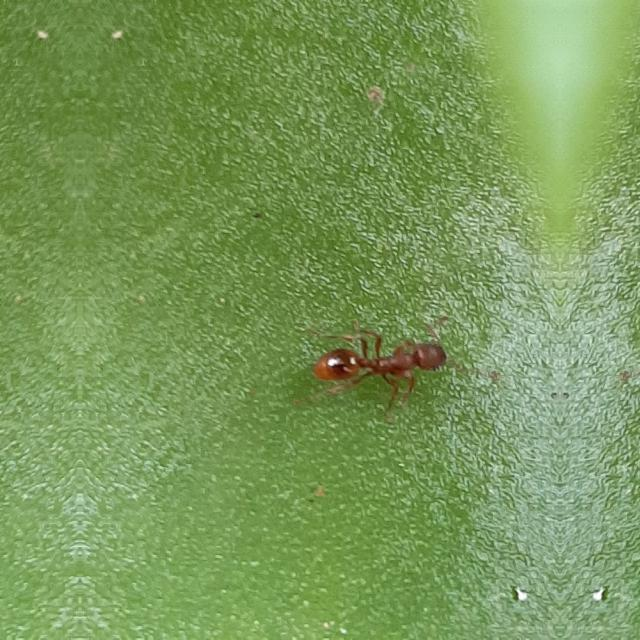Myrmica: (302, 297, 470, 413)
